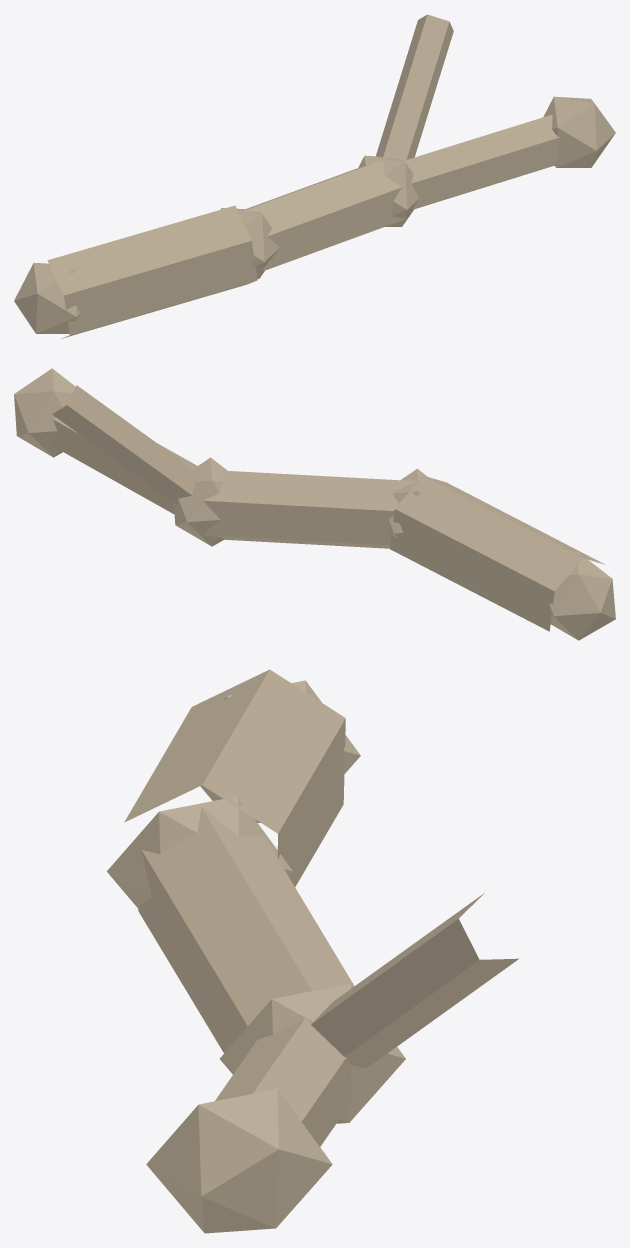
Rendered from driftwood_0.glb.
3 renders of one model, top to bottom at view 1: azimuth 30°, elevation 25°; view 2: azimuth 150°, elevation 25°; view 3: azimuth 270°, elevation 25°, orthographic. The views are drawn at different scales.
Visible parts, largest first — view 1: Driftwood; view 2: Driftwood; view 3: Driftwood.
Part boxes in pixels (x1,y1,x2,y2): Driftwood: [14, 14, 615, 338]; Driftwood: [14, 368, 615, 640]; Driftwood: [107, 669, 518, 1233].
Size of the model in its own units: 2.36 by 0.7098 by 0.7384.
